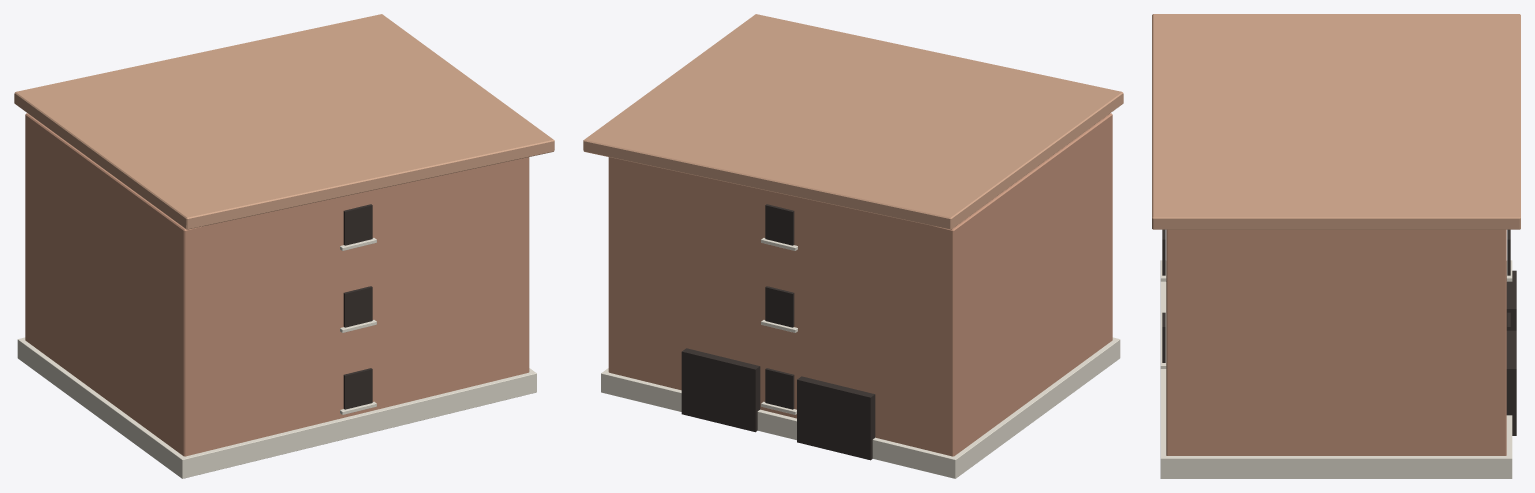
File: fabric_a.glb
The picture shows the model from 3 angles, left to right: view 1: azimuth 30°, elevation 25°; view 2: azimuth 150°, elevation 25°; view 3: azimuth 270°, elevation 25°; orthographic projection. The views are drawn at different scales.
Parts seen in each view (by area): view 1: body, roof, merged_travertine, merged_dark; view 2: body, roof, merged_dark, merged_travertine; view 3: roof, body, merged_travertine, merged_dark.
Boxes of the visible parts, x1=… form: body: x1=25, y1=113, x2=529, y2=456; roof: x1=14, y1=14, x2=554, y2=229; merged_travertine: x1=17, y1=238, x2=536, y2=478; merged_dark: x1=343, y1=204, x2=372, y2=409; body: x1=608, y1=113, x2=1112, y2=456; roof: x1=583, y1=14, x2=1123, y2=229; merged_dark: x1=681, y1=204, x2=875, y2=460; merged_travertine: x1=601, y1=238, x2=1120, y2=478; roof: x1=1152, y1=14, x2=1520, y2=229; body: x1=1166, y1=229, x2=1506, y2=455; merged_travertine: x1=1160, y1=260, x2=1512, y2=478; merged_dark: x1=1162, y1=229, x2=1516, y2=435.
Bounding box in the file's own units: 16.02 × 10.93 × 13.
